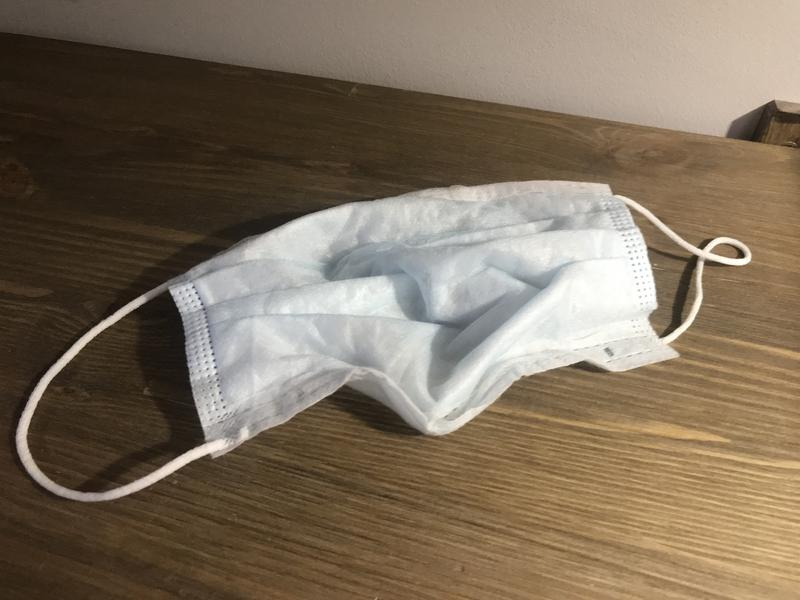medical_mask: (16, 179, 751, 501)
